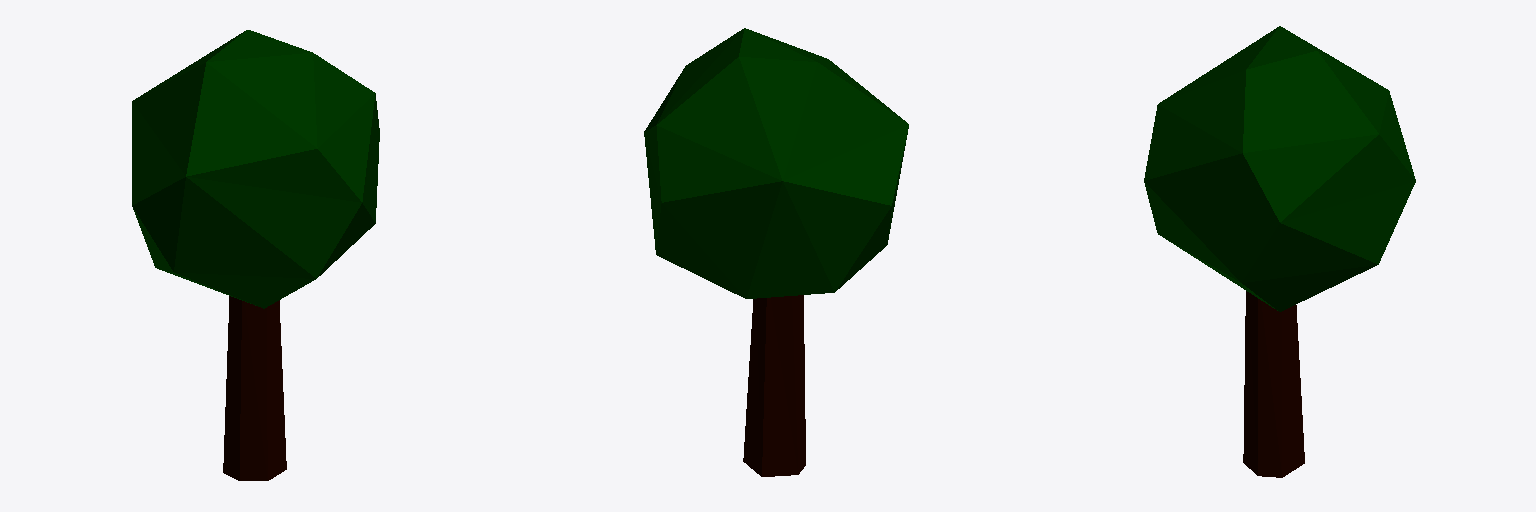
Rendered from tree.obj.
3 views of the same model, side by side, from view 1: azimuth 30°, elevation 25°; view 2: azimuth 150°, elevation 25°; view 3: azimuth 270°, elevation 25° (orthographic).
Parts seen in each view (by area): view 1: Icosphere.006; view 2: Icosphere.006; view 3: Icosphere.006.
Part boxes in pixels (x1,y1,x2,y2): Icosphere.006: (132, 30, 379, 480); Icosphere.006: (644, 28, 908, 476); Icosphere.006: (1144, 26, 1415, 477).
Bounding box in the file's own units: 0.8602 × 1.4 × 0.8181.